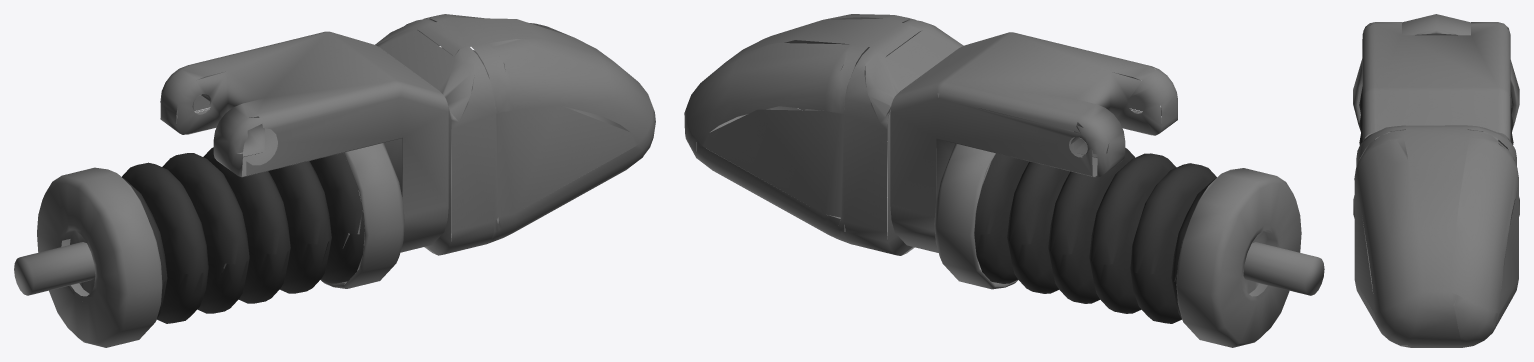
File: handr_finger_pinky2_joint.obj
3 views of the same model, side by side, from view 1: azimuth 30°, elevation 25°; view 2: azimuth 150°, elevation 25°; view 3: azimuth 270°, elevation 25° (orthographic). The views are drawn at different scales.
Size of the model in its own units: 0.0539 by 0.0183 by 0.0135.
Materials: 1 (1 with a texture image).
